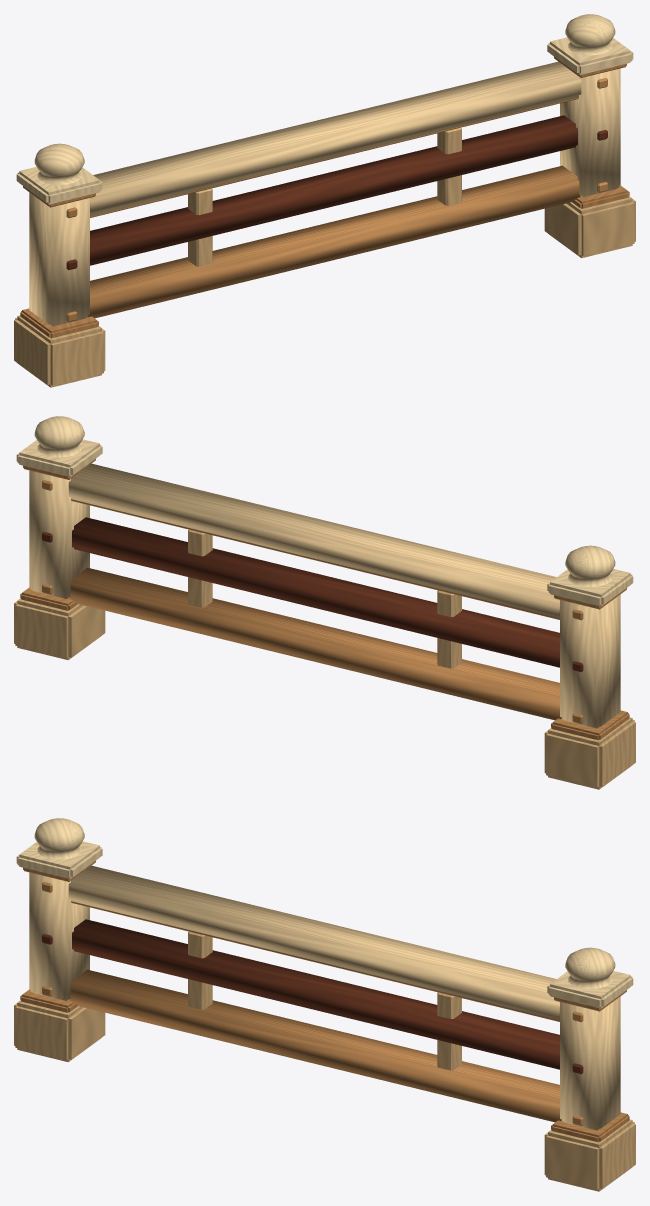
File: village-fence.glb
3 renders of one model, top to bottom at view 1: azimuth 30°, elevation 25°; view 2: azimuth 150°, elevation 25°; view 3: azimuth 330°, elevation 25°, orthographic.
Parts seen in each view (by area): view 1: village-fence; view 2: village-fence; view 3: village-fence.
Part boxes in pixels (<box>): village-fence: <box>14,14,635,387</box>; village-fence: <box>14,416,635,789</box>; village-fence: <box>14,818,635,1191</box>.
Size of the model in its own units: 2.55 by 0.92 by 0.28.
Materials: 1 (1 with a texture image).
